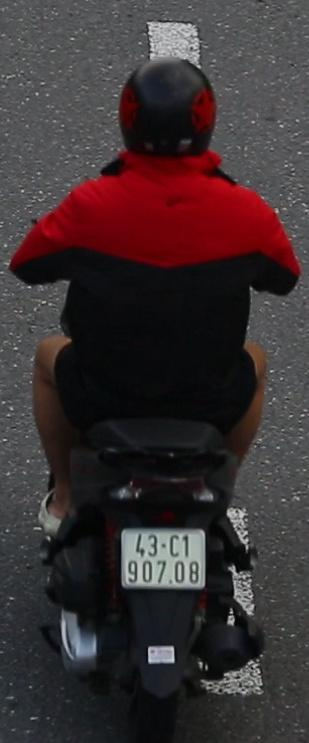LP: (117, 521, 210, 598)
helmet: (112, 51, 222, 166)
